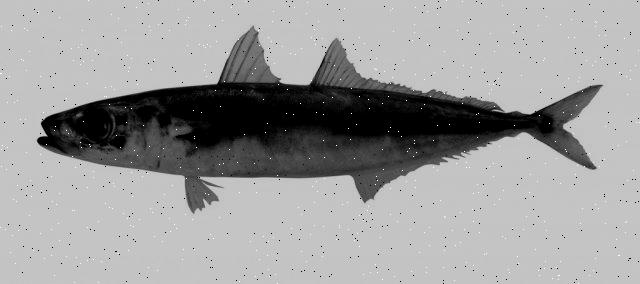Mulut: (24, 112, 68, 167)
Sirip Anal: (350, 140, 510, 208)
Sirip Dada: (176, 118, 282, 164)
Sirip Ekor: (519, 74, 611, 180)
Sirip Perut: (177, 169, 227, 219)
Sirip Punggung: (219, 22, 437, 98)
